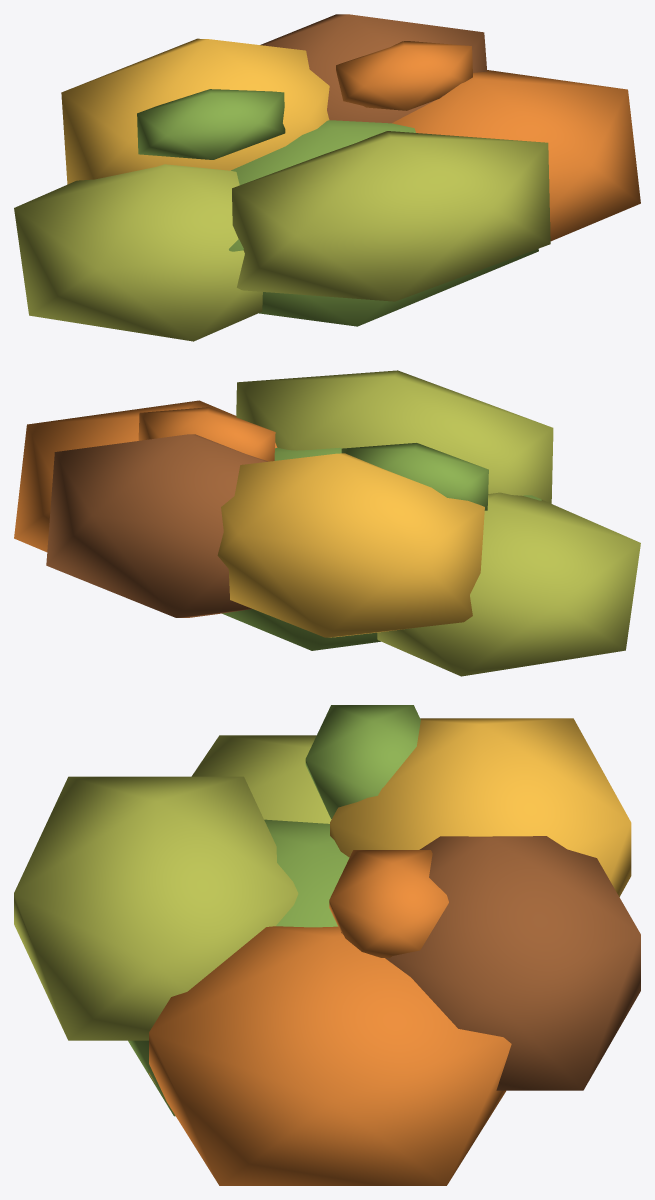
Rendered from LeafPile.fbx.
3 renders of one model, top to bottom at view 1: azimuth 30°, elevation 25°; view 2: azimuth 150°, elevation 25°; view 3: azimuth 270°, elevation 25°, orthographic. The views are drawn at different scales.
Parts seen in each view (by area): view 1: LeafPile; view 2: LeafPile; view 3: LeafPile.
Part boxes in pixels (box(x1,y1,x2,y2)): LeafPile: box(14, 14, 640, 341); LeafPile: box(14, 370, 640, 676); LeafPile: box(14, 705, 640, 1185).
Bounding box in the file's own units: 95.51 × 35 × 63.77.
